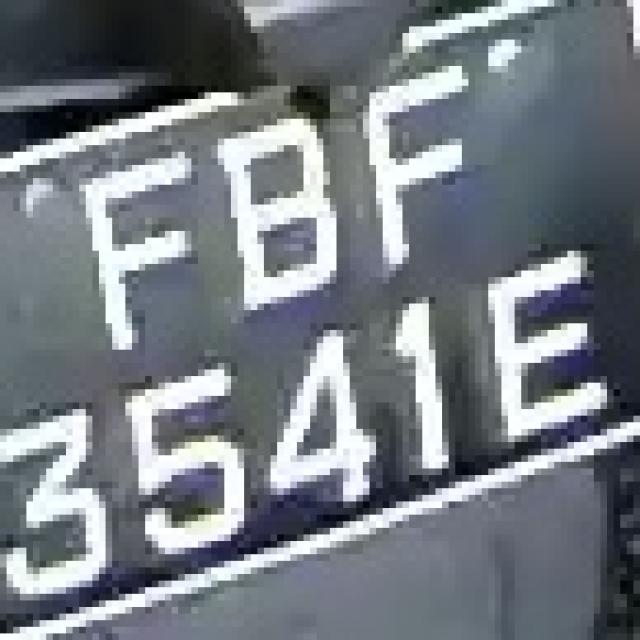1: (389, 251, 462, 488)
3: (0, 389, 125, 613)
4: (244, 310, 389, 528)
5: (119, 350, 257, 567)
B: (198, 79, 356, 330)
E: (482, 244, 614, 469)
F: (59, 125, 204, 376), (349, 46, 502, 271)
